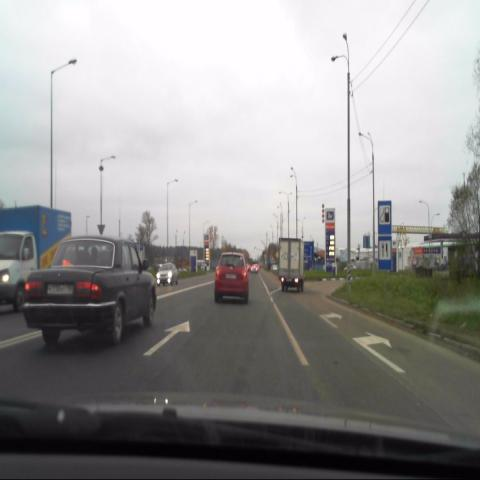7_3: (378, 201, 391, 235)
7_7: (378, 236, 392, 271)
